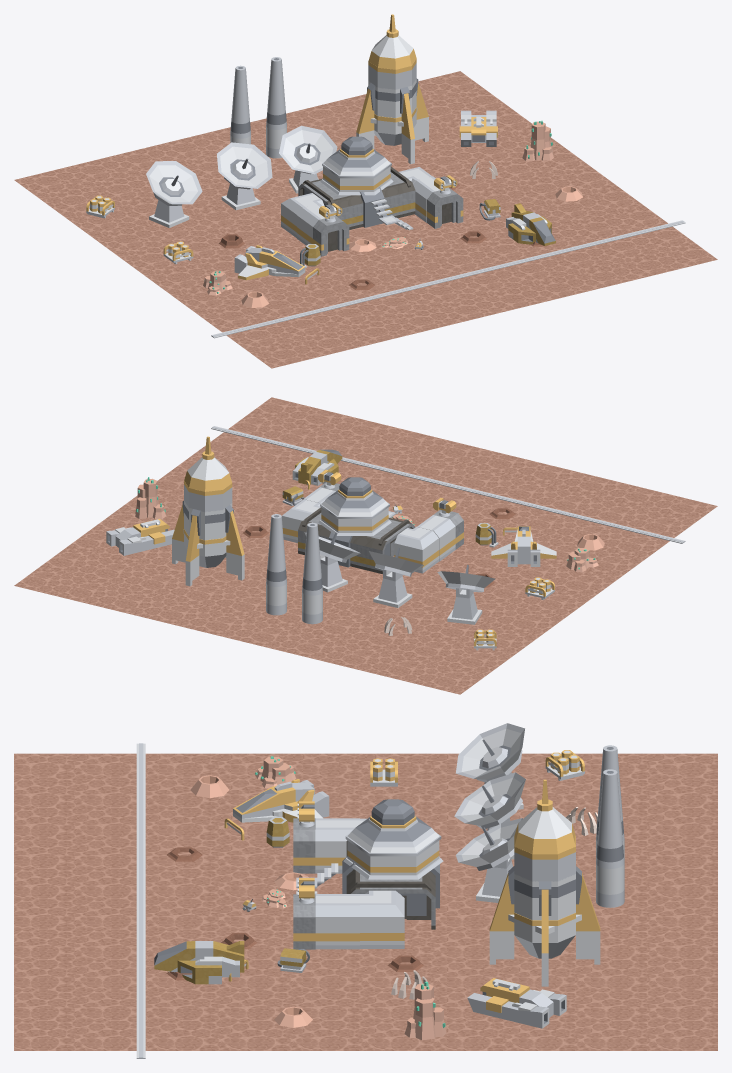
File: espacio-map.fbx
3 views of the same model, one above another, from view 1: azimuth 30°, elevation 25°; view 2: azimuth 150°, elevation 25°; view 3: azimuth 270°, elevation 25° (orthographic). The views are drawn at different scales.
Parts seen in each view (by area): view 1: barrels1; view 2: barrels1; view 3: barrels1.
Boxes of the visible parts, x1=… form: barrels1: x1=14, y1=14, x2=717, y2=368; barrels1: x1=14, y1=397, x2=717, y2=694; barrels1: x1=14, y1=723, x2=717, y2=1058.
Bounding box in the file's own units: 1671 × 456 × 1583.
Materials: 89 (12 with a texture image).
